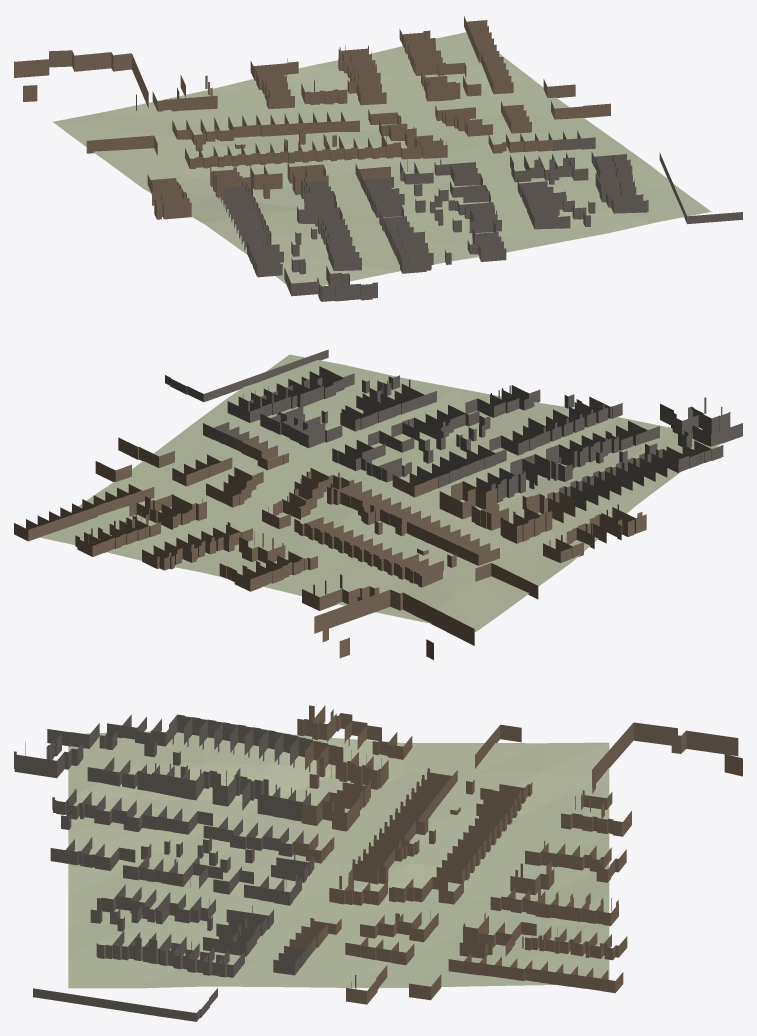
The model's file is tile_33_-1_lod1.gltf.
3 renders of one model, top to bottom at view 1: azimuth 30°, elevation 25°; view 2: azimuth 150°, elevation 25°; view 3: azimuth 270°, elevation 25°, orthographic. The views are drawn at different scales.
Parts seen in each view (by area): view 1: Terrain_col, Buildings_col; view 2: Buildings_col, Terrain_col; view 3: Terrain_col, Buildings_col.
Boxes of the visible parts, x1,y1,x2,y2 form: Terrain_col: (53,32,711,286); Buildings_col: (14,16,742,301); Buildings_col: (14,349,742,659); Terrain_col: (39,354,721,631); Terrain_col: (68,731,609,988); Buildings_col: (14,705,742,1021).
Bounding box in the file's own units: 311 × 23.97 × 345.
